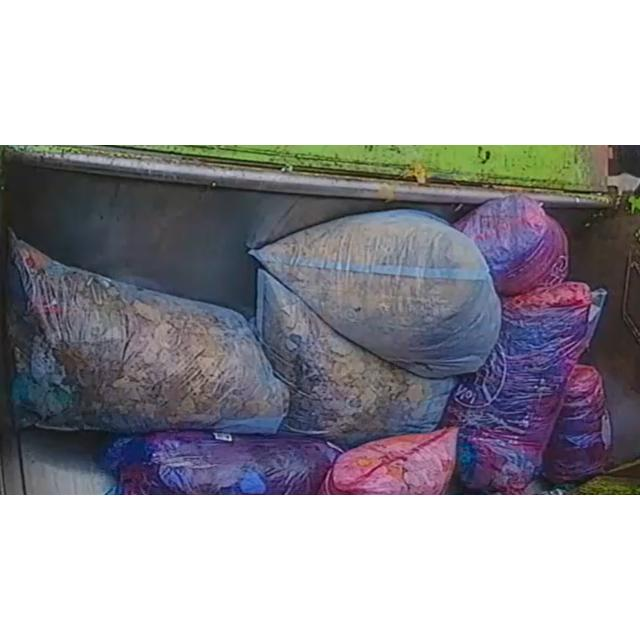other_trashbag: (10, 235, 289, 434), (250, 210, 501, 379), (256, 270, 455, 449), (442, 282, 592, 494), (104, 432, 339, 496), (455, 196, 569, 297), (320, 428, 459, 496), (544, 365, 611, 484)
